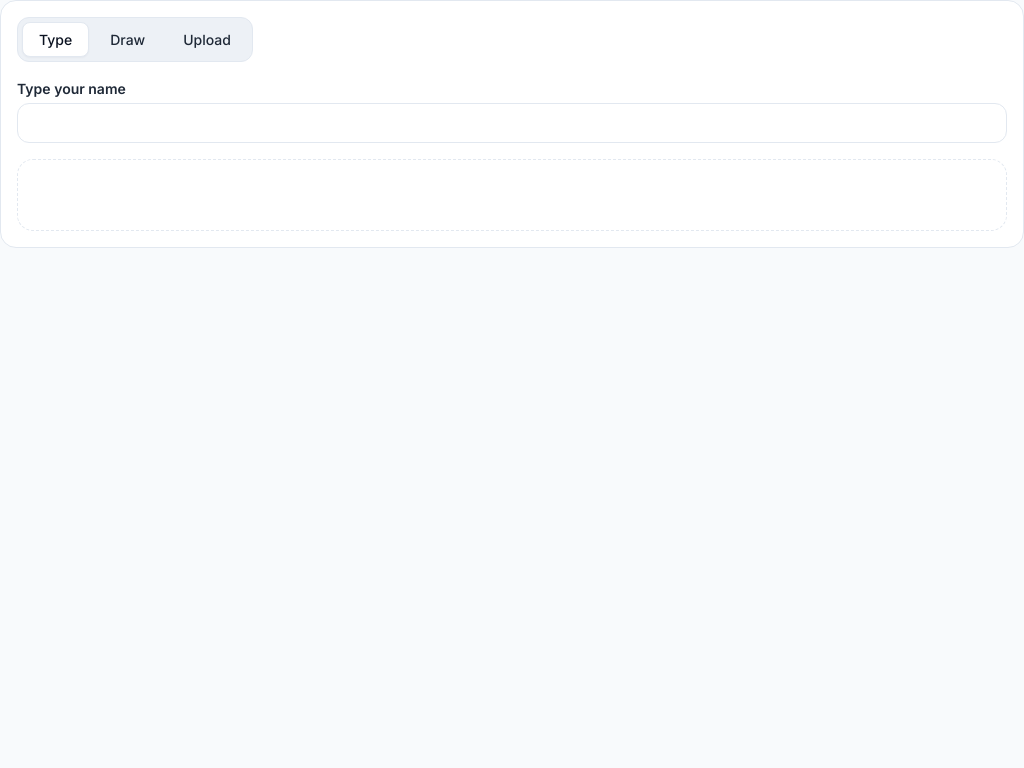
SignaturePad › switches to the draw panel when the Draw tab is clicked
Expected: the field labelled "Type your name" is shown, [17, 103, 1007, 143]
Click the tab "Draw".
click(128, 40)  # box [93, 22, 162, 57]
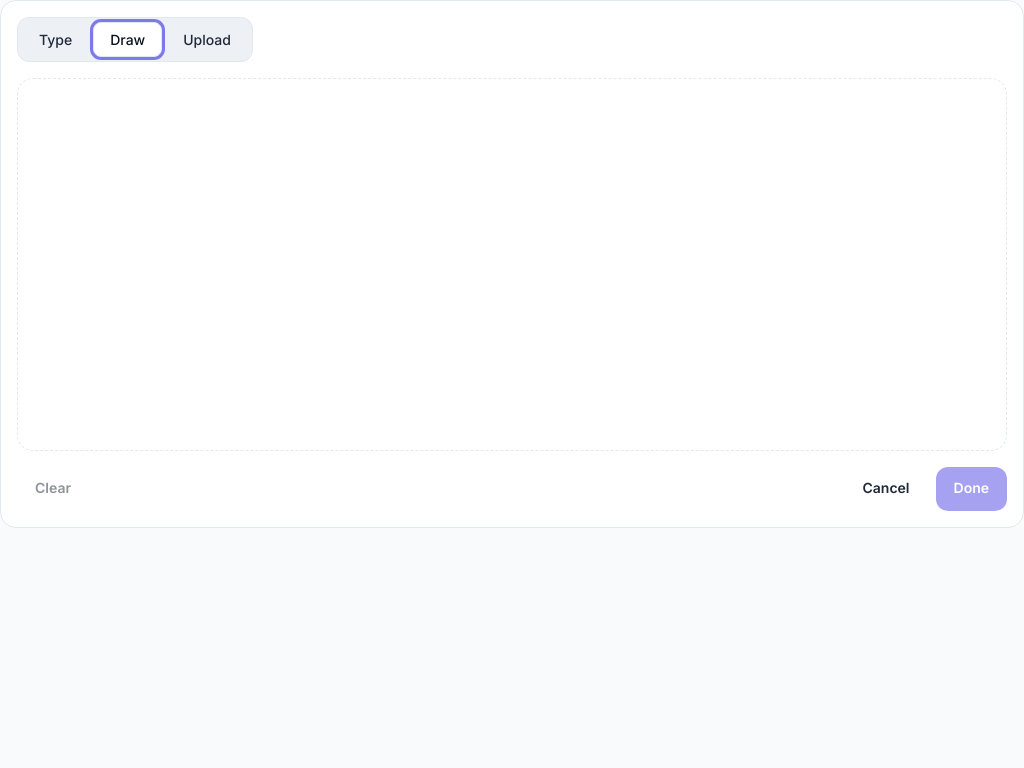
Result: the picture named "signature canvas" is shown at [17, 78, 1007, 450]
